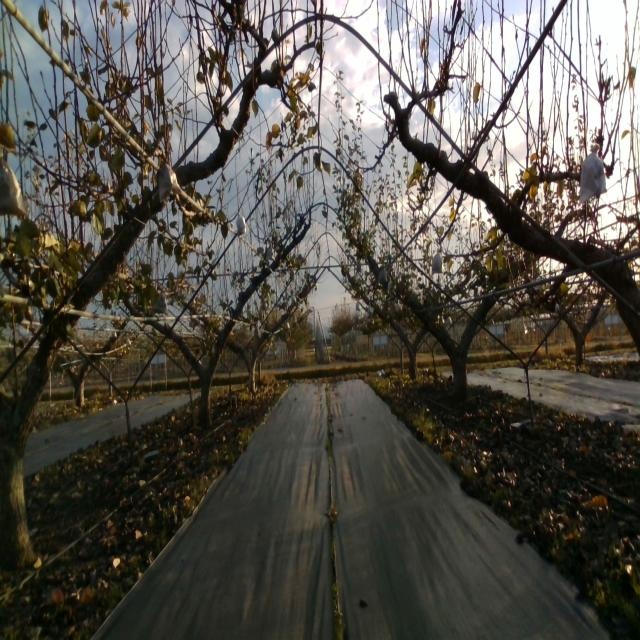pearbags: (0, 151, 26, 217), (578, 146, 606, 203), (158, 163, 182, 203), (431, 248, 443, 276), (237, 212, 247, 236)
